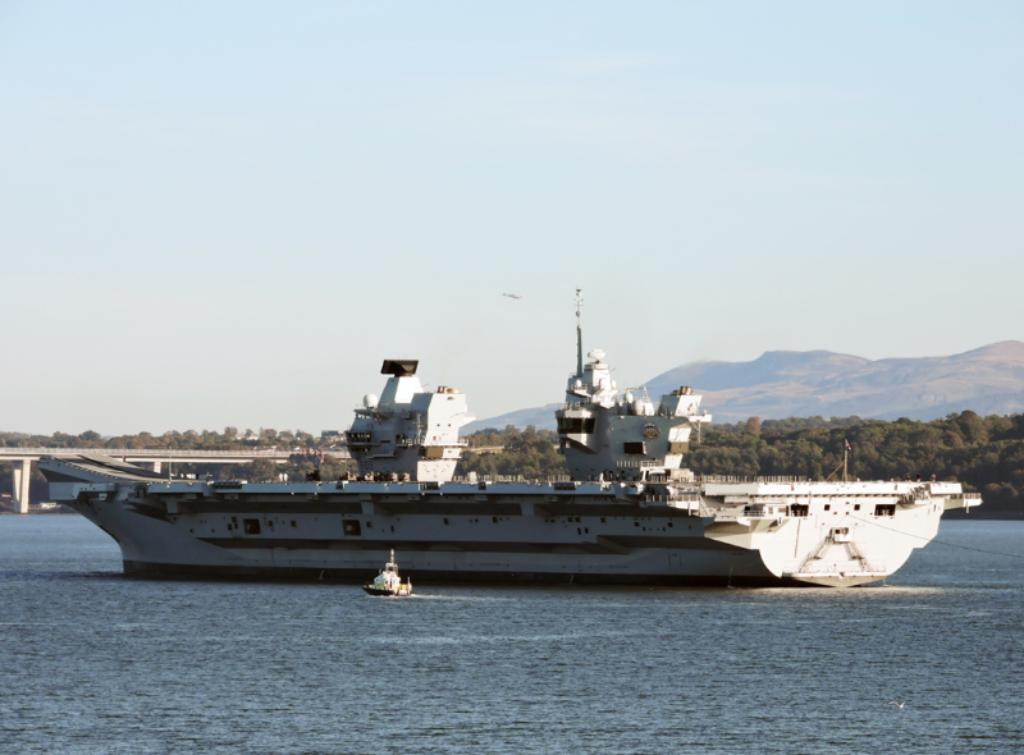Warship: (32, 280, 988, 600)
